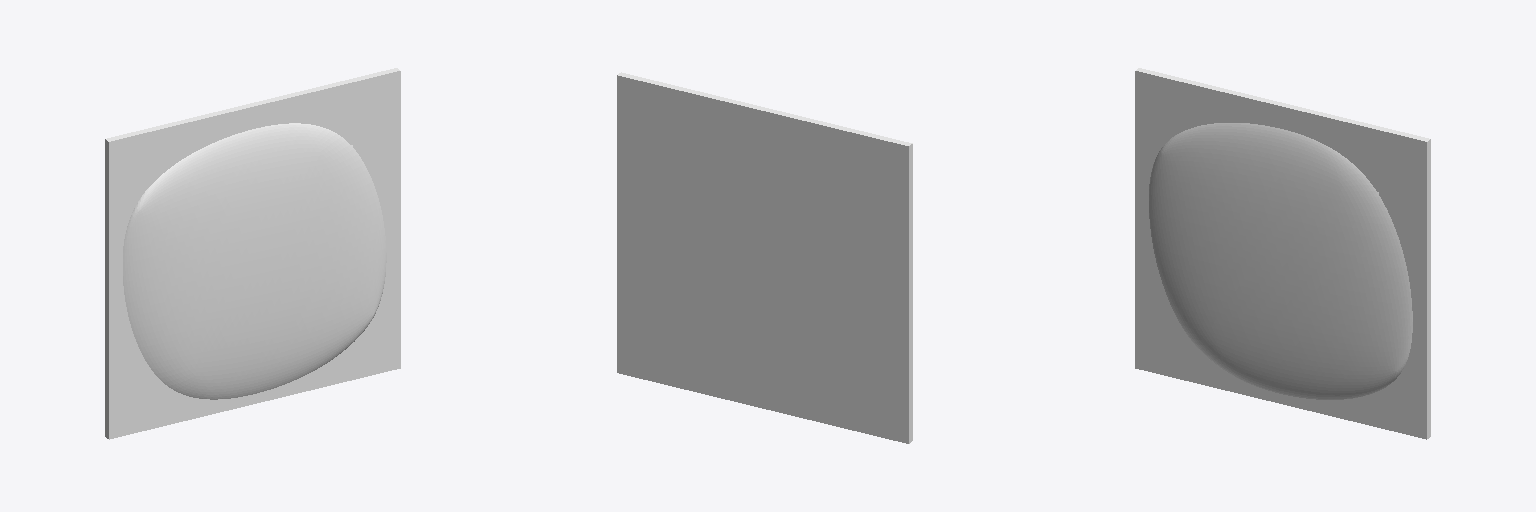
File: soft_ground.obj
The picture shows the model from 3 angles: view 1: azimuth 30°, elevation 25°; view 2: azimuth 150°, elevation 25°; view 3: azimuth 330°, elevation 25°; orthographic projection.
Parts seen in each view (by area): view 1: Object.1; view 2: Object.1; view 3: Object.1.
Part boxes in pixels (x1,y1,x2,y2): Object.1: (105,68,400,439); Object.1: (617,72,912,443); Object.1: (1135,68,1430,439).
Bounding box in the file's own units: 334 × 326 × 20.31.